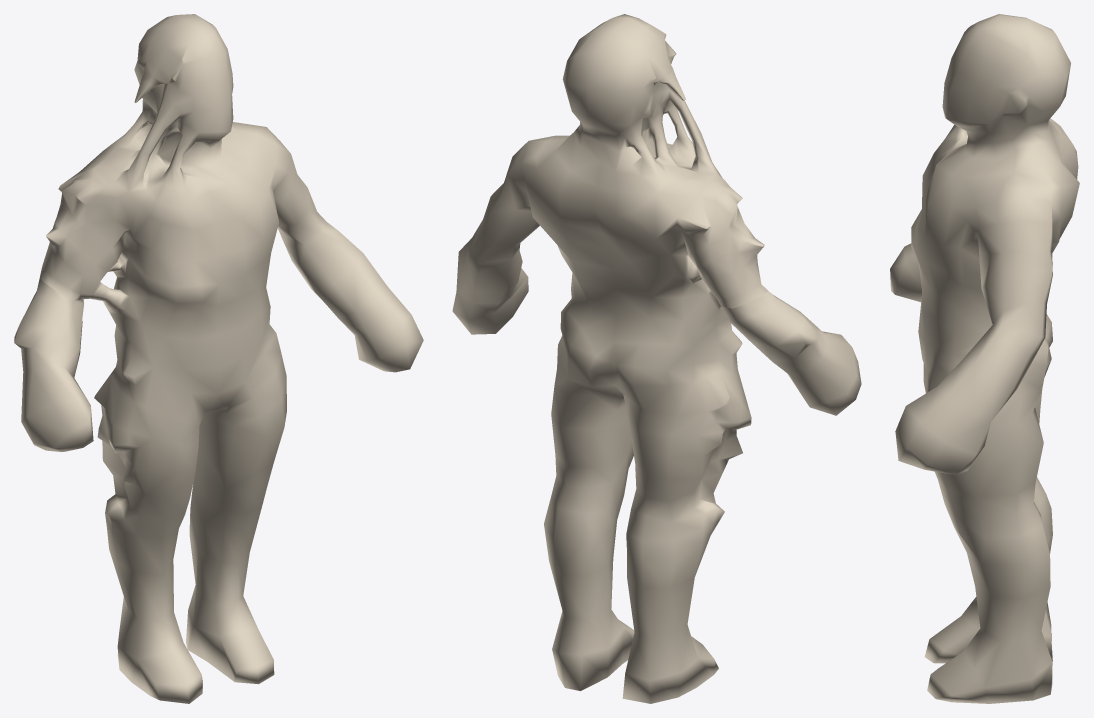
The model's file is 244-prometheanoffspring.glb.
3 views of the same model, side by side, from view 1: azimuth 30°, elevation 25°; view 2: azimuth 150°, elevation 25°; view 3: azimuth 270°, elevation 25° (orthographic). The views are drawn at different scales.
Size of the model in its own units: 1.41 by 2.26 by 0.5879.
